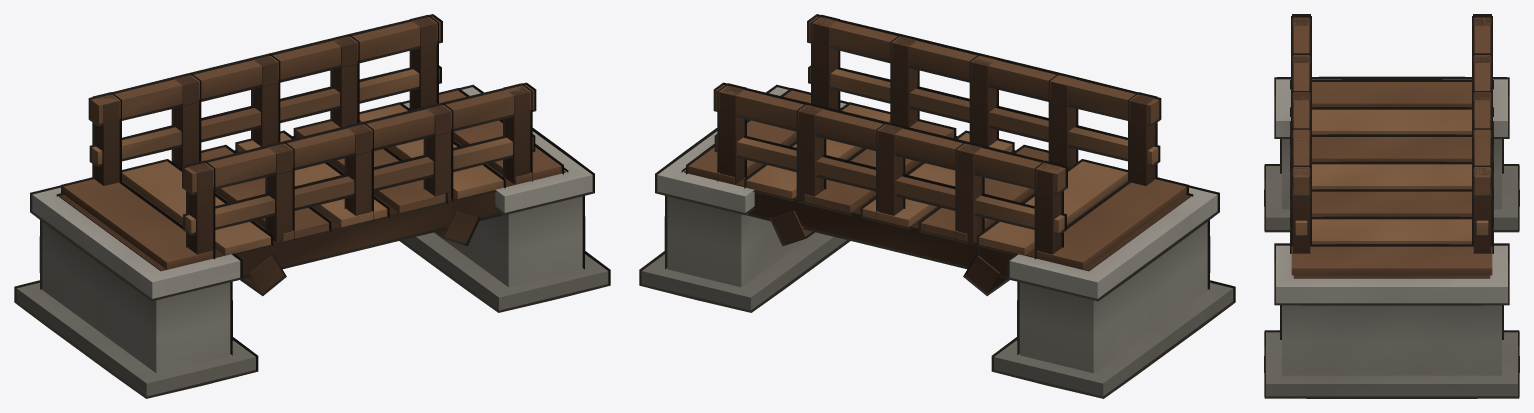
Rendered from pont.glb.
3 views of the same model, side by side, from view 1: azimuth 30°, elevation 25°; view 2: azimuth 150°, elevation 25°; view 3: azimuth 270°, elevation 25° (orthographic). The views are drawn at different scales.
Parts seen in each view (by area): view 1: pont, pont_outline; view 2: pont, pont_outline; view 3: pont, pont_outline.
Part boxes in pixels (<box>): pont: <box>16,16,608,396</box>; pont_outline: <box>14,14,610,398</box>; pont: <box>641,16,1233,396</box>; pont_outline: <box>639,14,1235,398</box>; pont: <box>1266,17,1517,396</box>; pont_outline: <box>1264,14,1519,398</box>.
Size of the model in its own units: 2.64 by 1.09 by 1.3.
